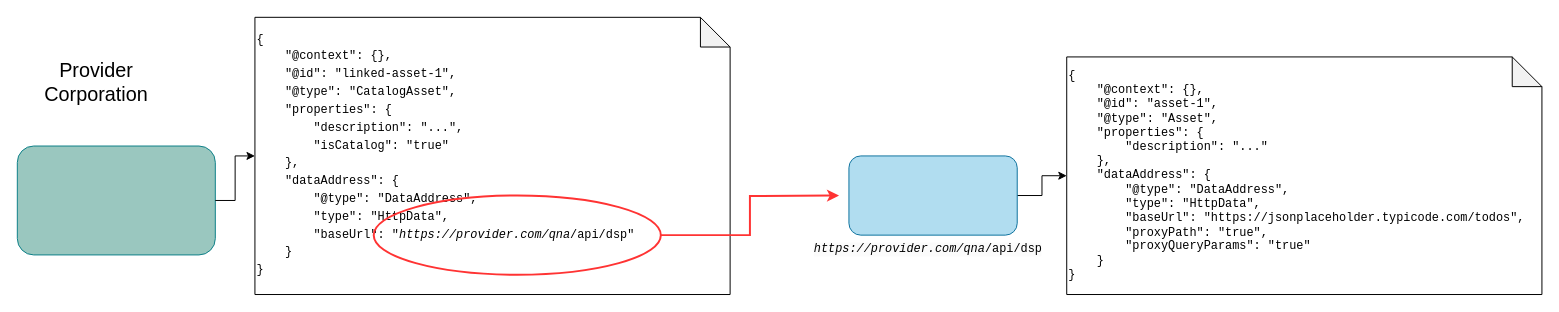
Some shapes in this 1559 by 312 pixel diagram are drawn without their labels. The centre of each missing label's shape, as x and y in pixels:
Provider "qna" Connector: point (932, 195)
Provider Catalog Server: point (115, 200)
